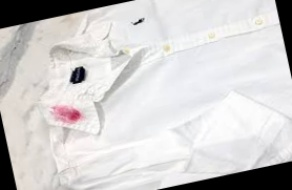lipstick: (48, 98, 87, 135)
